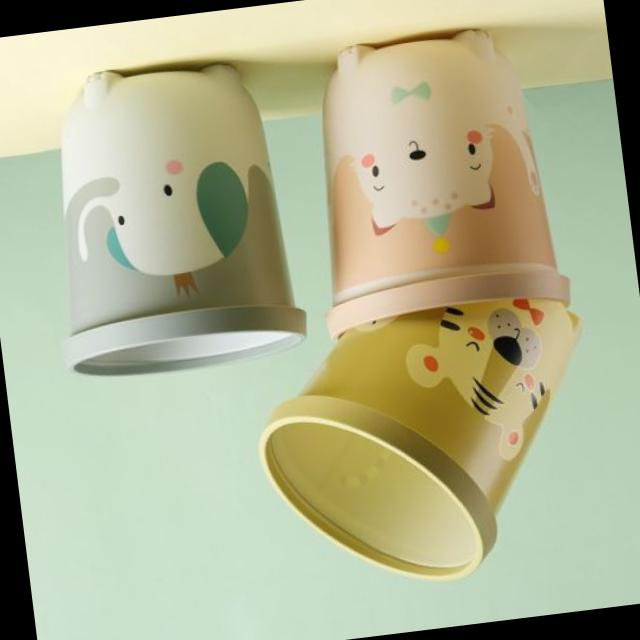dustbin: (238, 286, 620, 604), (25, 44, 318, 389), (290, 9, 580, 344)
